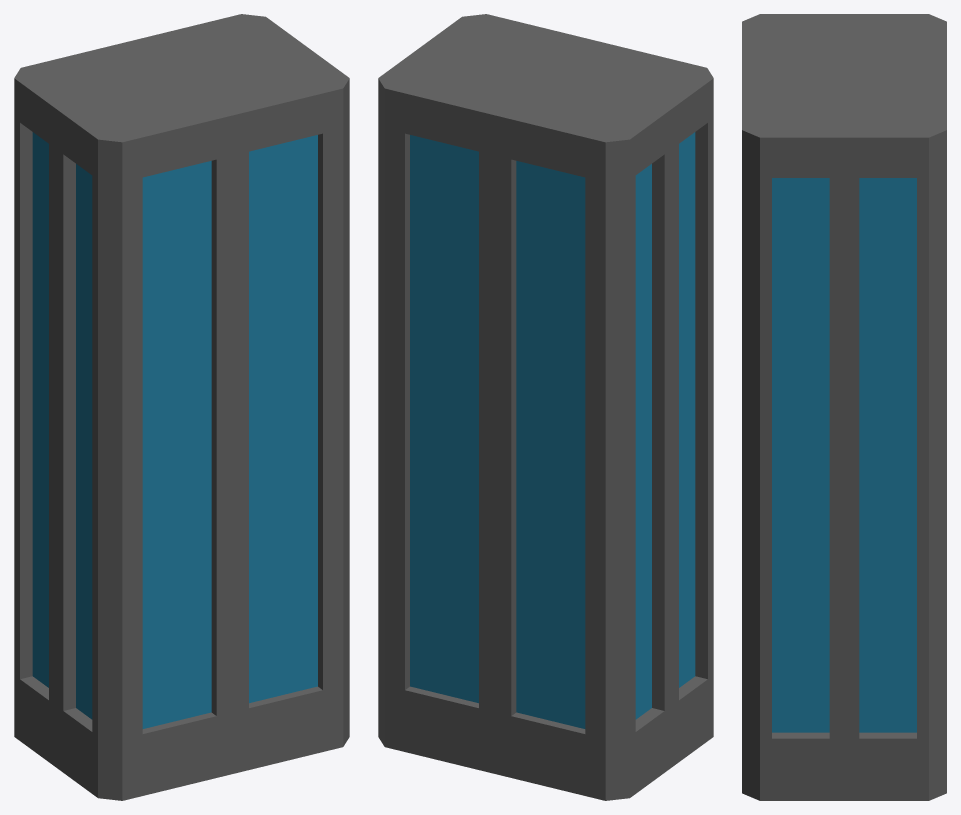
The model's file is biurowiec4.fbx.
3 views of the same model, side by side, from view 1: azimuth 30°, elevation 25°; view 2: azimuth 150°, elevation 25°; view 3: azimuth 270°, elevation 25° (orthographic).
Visible parts, largest first — view 1: biurowiec4; view 2: biurowiec4; view 3: biurowiec4.
Boxes of the visible parts, <box> form: biurowiec4: <box>14,14,349,800</box>; biurowiec4: <box>378,14,713,800</box>; biurowiec4: <box>742,14,946,800</box>.
Bounding box in the file's own units: 480 × 1200 × 336.
